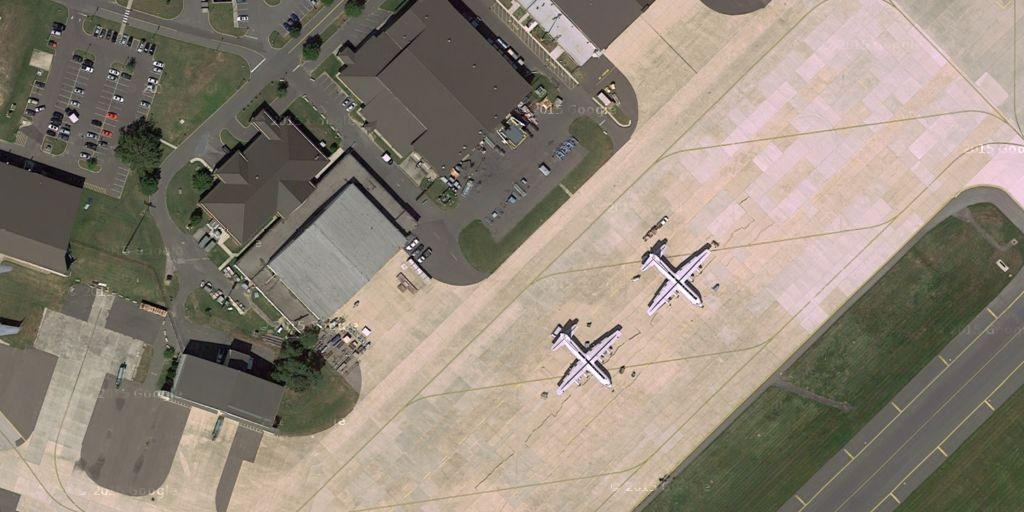C-130: (544, 317, 625, 395), (632, 237, 713, 315)
